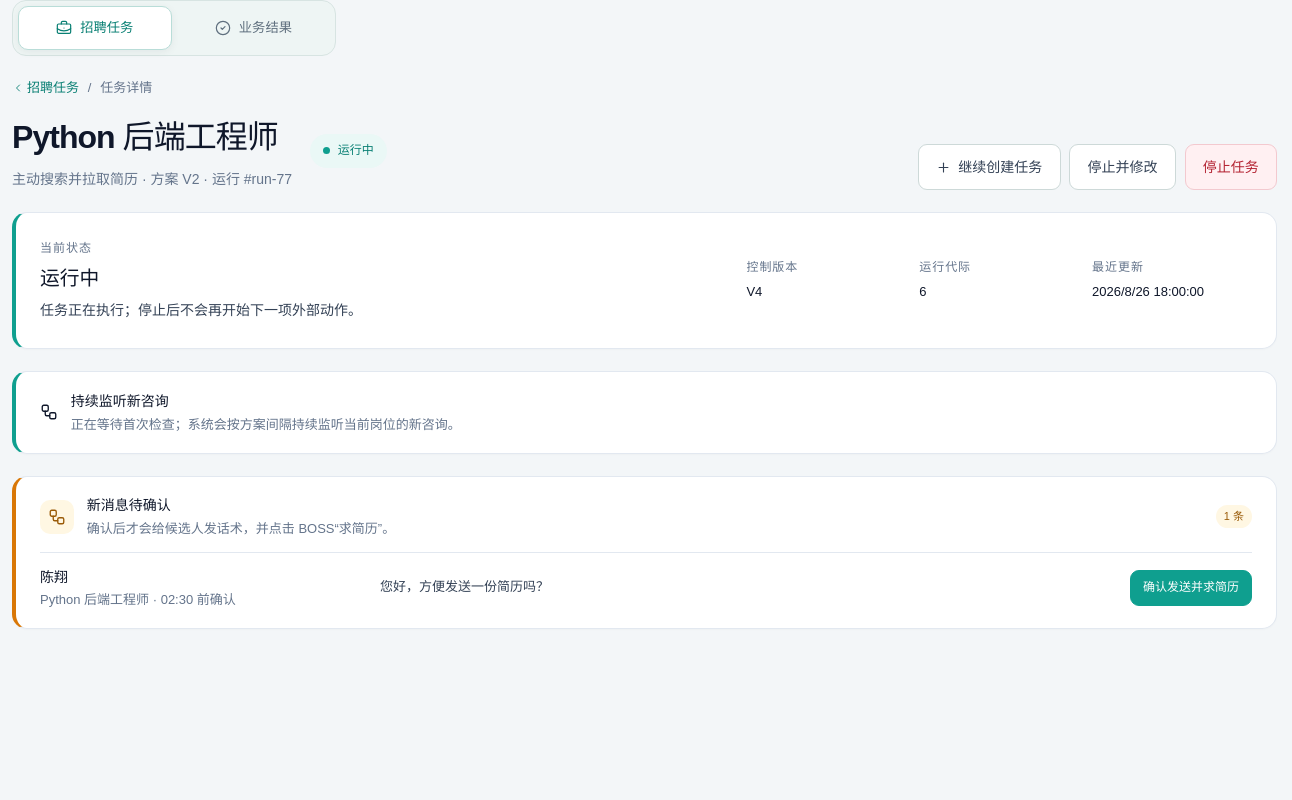
Test: RecruitmentTaskDetailView › maintains passive resume approvals on the result task page
Expected: the element with test id "resume-approval-inbox" shows "陈翔", [40,568,68,584]
Expected: the element with test id "resume-approval-inbox" shows "您好，方便发送一份简历吗？", [380,579,549,594]
Click the button with test id "approve-resume-approval-1": {"x": 1191, "y": 588} [1130,570,1252,606]
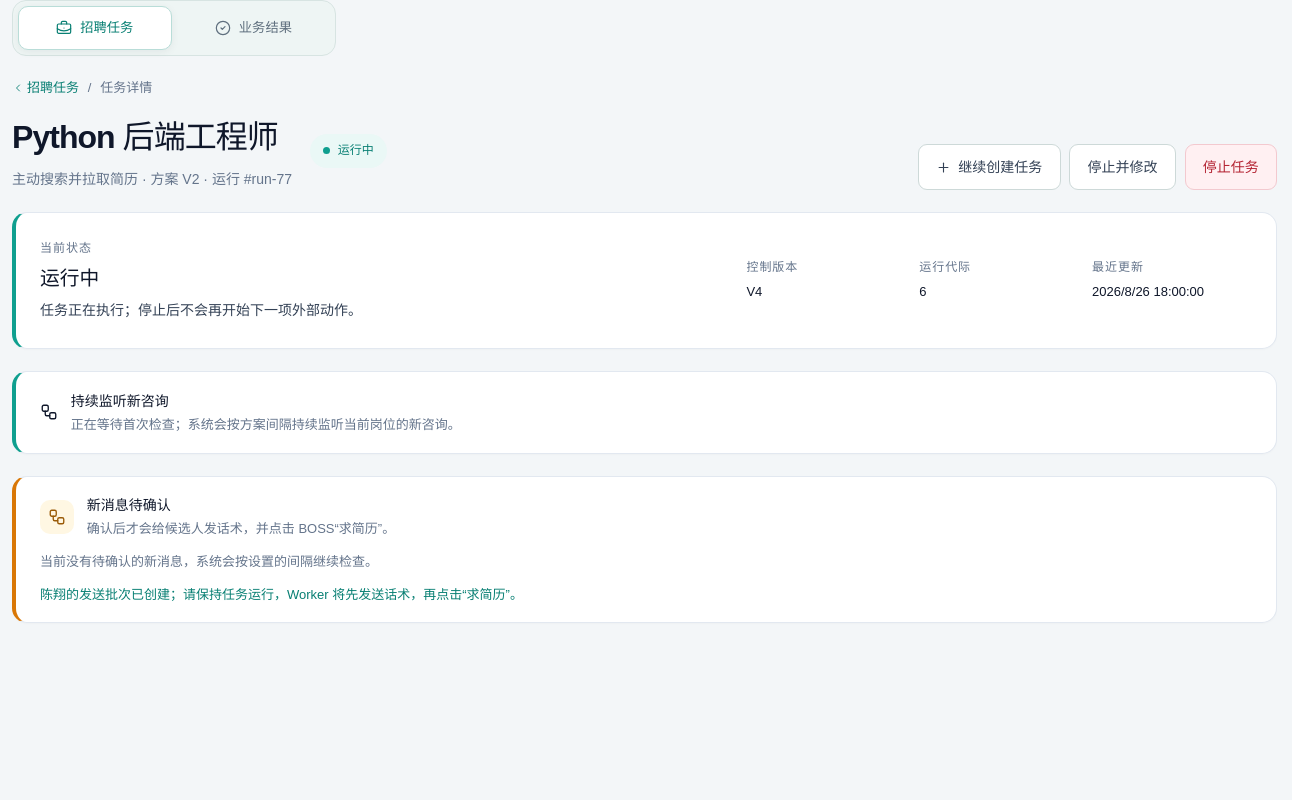
Expected: the text "发送批次已创建" is shown, [40,587,523,602]
